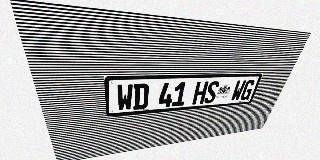1: (171, 82, 188, 106)
4: (158, 82, 175, 108)
D: (133, 83, 149, 110)
G: (239, 80, 256, 100)
H: (192, 81, 209, 105)
S: (203, 81, 220, 104)
W: (116, 84, 133, 111), (230, 80, 247, 101)
